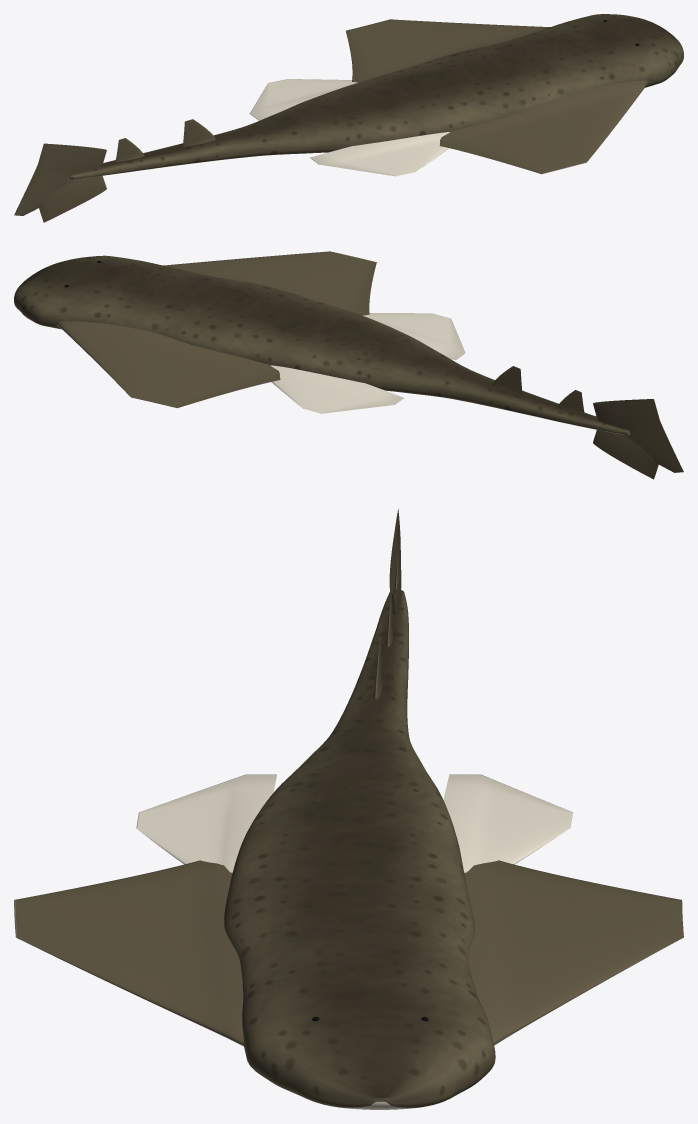
File: angelshark.glb
3 views of the same model, one above another, from view 1: azimuth 30°, elevation 25°; view 2: azimuth 150°, elevation 25°; view 3: azimuth 270°, elevation 25° (orthographic). The views are drawn at different scales.
Visible parts, largest first — view 1: Angelshark_Body, Angelshark_Fins; view 2: Angelshark_Body, Angelshark_Fins; view 3: Angelshark_Body, Angelshark_Fins.
Boxes of the visible parts, bbox=[...] form: Angelshark_Body: bbox=[68, 14, 683, 179]; Angelshark_Fins: bbox=[14, 19, 648, 222]; Angelshark_Body: bbox=[14, 255, 629, 435]; Angelshark_Fins: bbox=[56, 251, 683, 479]; Angelshark_Body: bbox=[224, 590, 495, 1109]; Angelshark_Fins: bbox=[14, 509, 683, 1046].
Size of the model in its own units: 1.5 by 0.1739 by 0.7816.
Materials: 3 (1 with a texture image).
